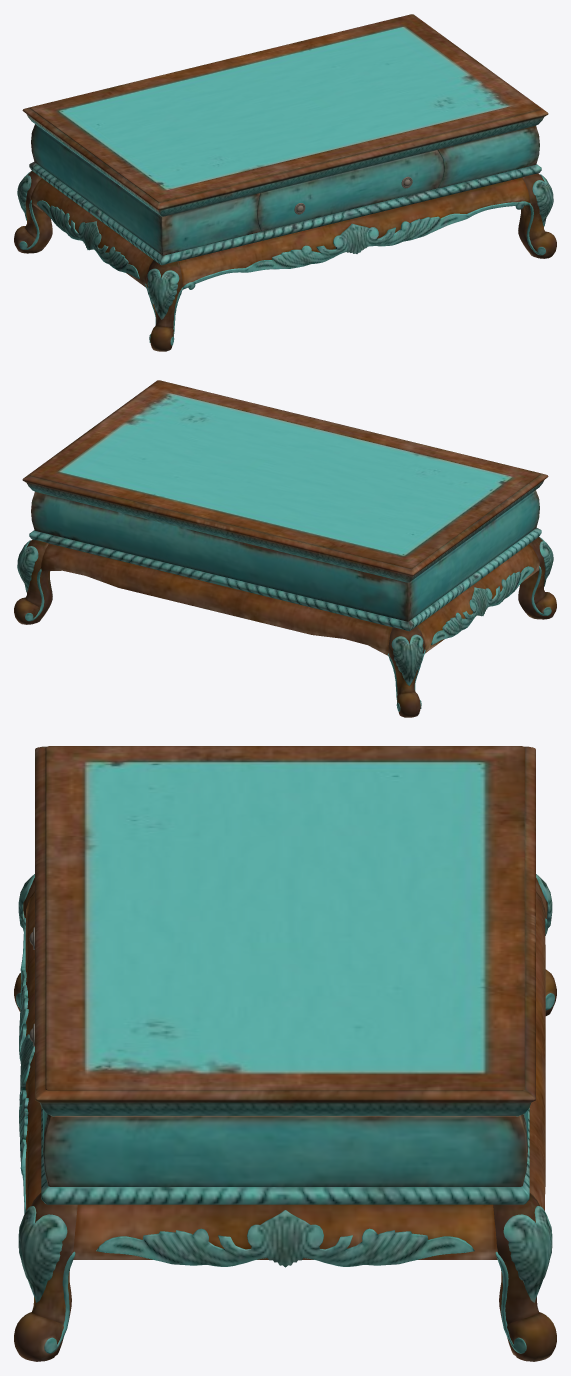
The model's file is CoffeeTable_01.glb.
3 renders of one model, top to bottom at view 1: azimuth 30°, elevation 25°; view 2: azimuth 150°, elevation 25°; view 3: azimuth 270°, elevation 25°, orthographic. The views are drawn at different scales.
Visible parts, largest first — view 1: CoffeeTable_01; view 2: CoffeeTable_01; view 3: CoffeeTable_01.
Part boxes in pixels (x1,y1,x2,y2): CoffeeTable_01: (14, 14, 556, 351); CoffeeTable_01: (14, 380, 556, 717); CoffeeTable_01: (14, 746, 556, 1361).
Size of the model in its own units: 1.54 by 0.5232 by 0.9728.
Materials: 1 (1 with a texture image).
